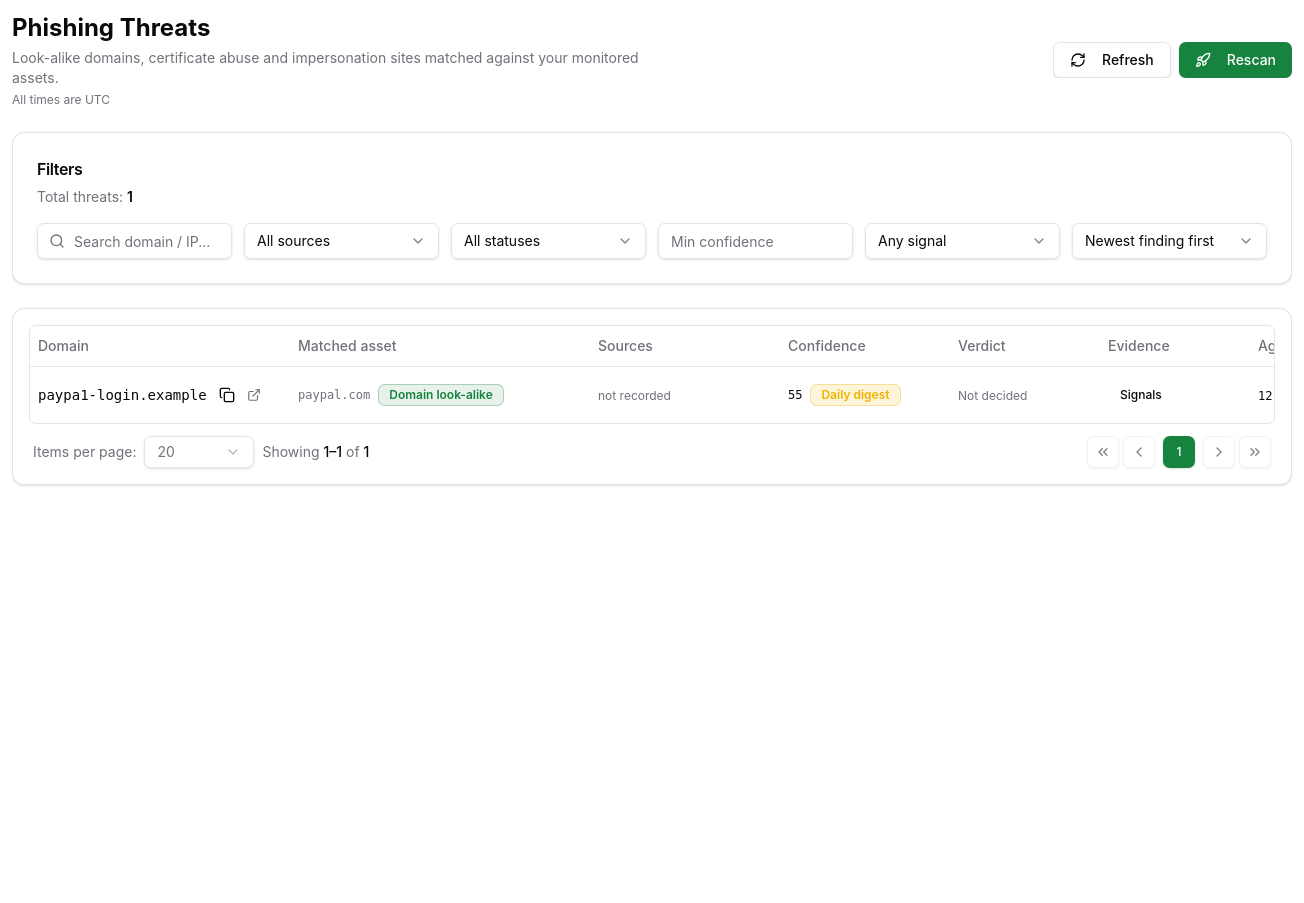
Test: PhishingPage source evidence › names the question each row answers, its verdict and when the provider saw it
The image size is (1304, 903).
Step 1. Click the button "Signals" → [1141, 394], box [1108,378,1174,410]
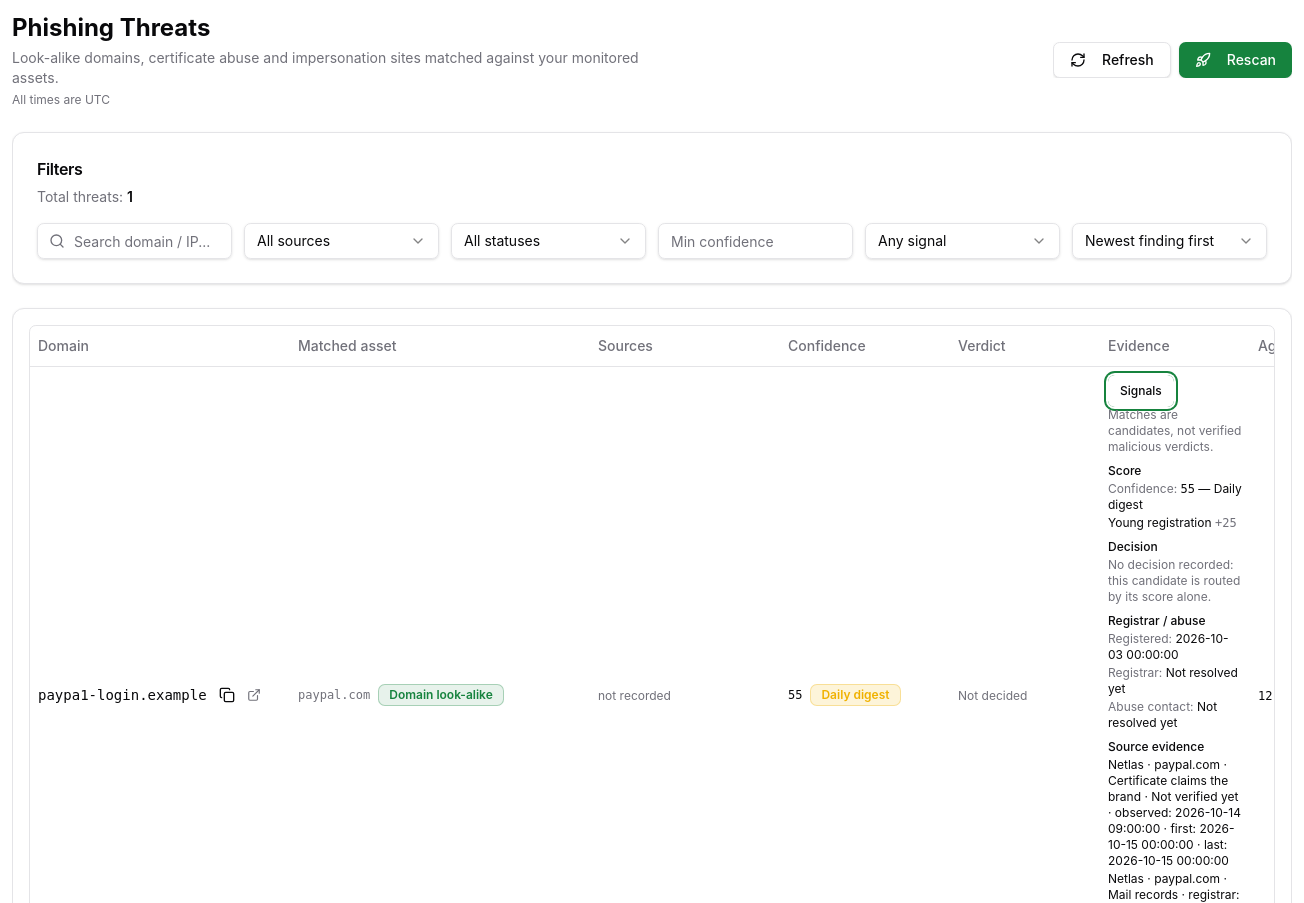
Check: the text "Certificate claims the brand" is shown, box [1108,772,1228,804]
Check: the text "Not verified yet" is shown, box [1151,788,1238,804]
Check: the text "observed: 2026-10-14 09:00:00" is shown, box [1108,756,1242,868]
